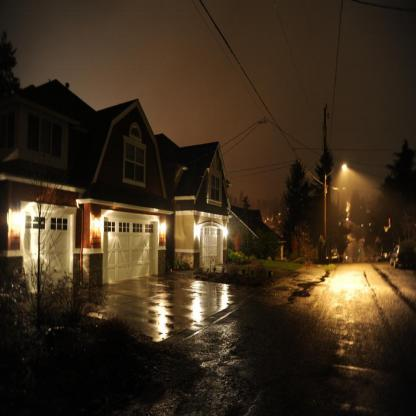other: (329, 266, 367, 292), (337, 156, 358, 192), (216, 218, 233, 240), (188, 219, 204, 242), (157, 218, 169, 238)
